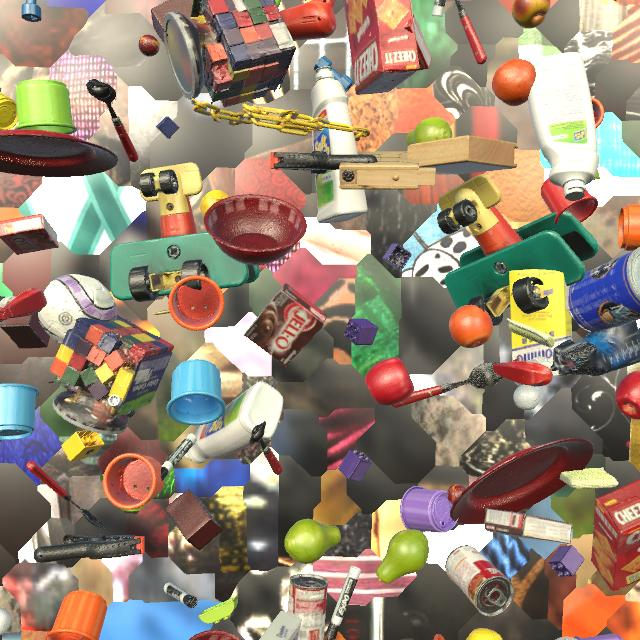ycb_002_master_chef_can: (569, 247, 640, 333)
ycb_003_cracker_box: (343, 0, 420, 95), (591, 479, 640, 592)
ycb_004_sugar_box: (509, 269, 572, 376), (259, 611, 302, 640)
ycb_005_tomato_soup_can: (445, 545, 514, 616), (287, 573, 328, 640), (0, 87, 1, 92)
ycb_008_pudding_box: (244, 283, 328, 367), (485, 508, 573, 544)
ycb_009_gelatin_box: (370, 15, 432, 71), (0, 214, 59, 255)
ycb_013_apple: (365, 357, 414, 406), (615, 370, 640, 419)
ycb_014_lemon: (200, 190, 229, 218), (466, 628, 503, 640)
ycb_015_peach: (512, 0, 551, 29)
ycb_016_pear: (376, 529, 429, 584), (284, 519, 341, 564), (406, 117, 453, 146)
ycb_017_orange: (492, 59, 536, 106), (449, 305, 493, 348)
